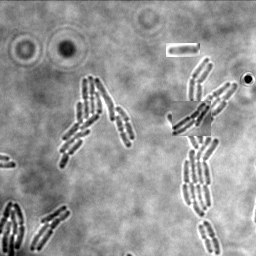Dividing: (204, 219, 222, 255), (199, 223, 215, 253), (166, 43, 200, 57)
Microcolony: (167, 57, 238, 216), (59, 75, 136, 169), (30, 204, 72, 251), (1, 200, 26, 255), (172, 101, 211, 136)
